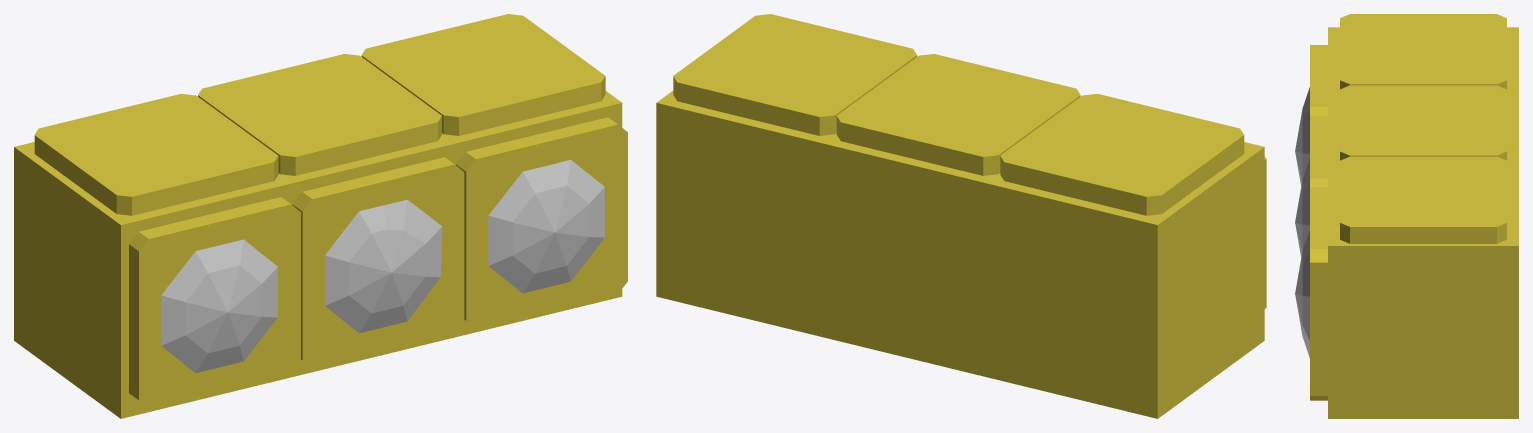
The model's file is 신호등막대제거.fbx.
3 renders of one model, left to right at view 1: azimuth 30°, elevation 25°; view 2: azimuth 150°, elevation 25°; view 3: azimuth 270°, elevation 25°, orthographic. The views are drawn at different scales.
Visible parts, largest first — view 1: polySurface20, polySurface16, polySurface17, polySurface22; view 2: polySurface20; view 3: polySurface20, polySurface22, polySurface17, polySurface16.
Boxes of the visible parts, x1,y1,x2,y2 form: polySurface20: (14, 14, 627, 418); polySurface16: (161, 239, 277, 373); polySurface17: (325, 199, 442, 333); polySurface22: (488, 159, 604, 293); polySurface20: (656, 14, 1266, 418); polySurface20: (1310, 14, 1518, 418); polySurface22: (1295, 230, 1309, 357); polySurface17: (1295, 158, 1309, 257); polySurface16: (1295, 87, 1309, 185).
Bounding box in the file's own units: 58.59 × 23.76 × 25.37.
4 materials, 1 textured.
